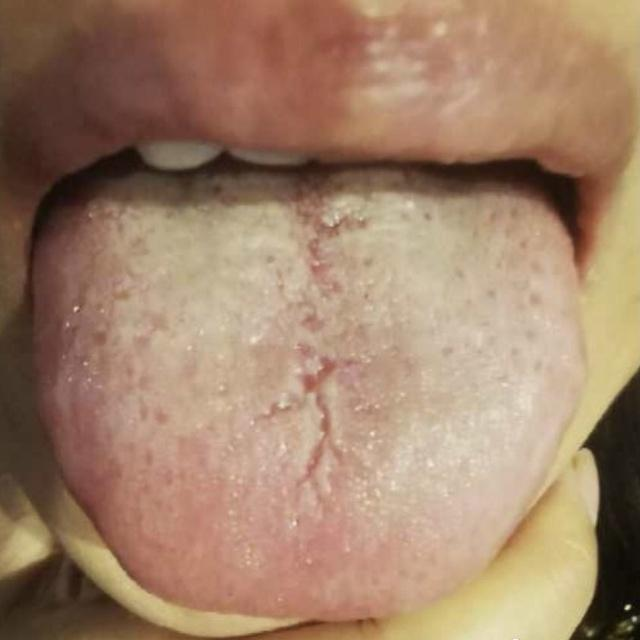baitaishe: (24, 163, 592, 628)
liewenshe: (281, 192, 356, 509)
